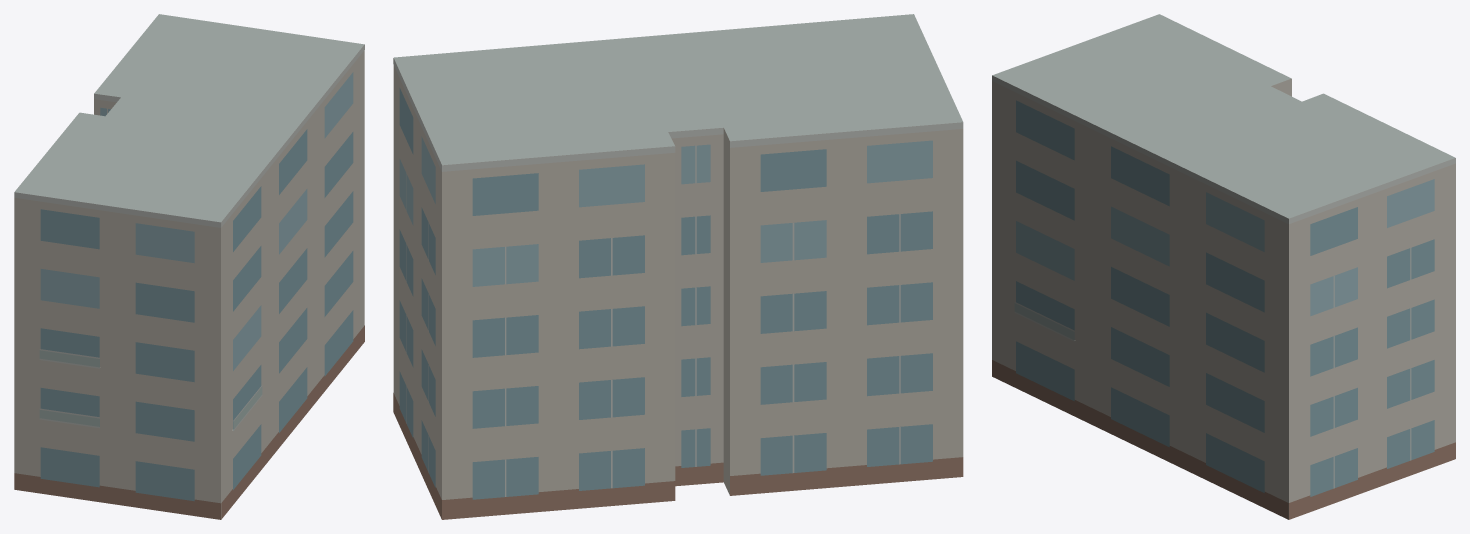
Rendered from survey-upis-32625898.glb.
3 views of the same model, side by side, from view 1: azimuth 30°, elevation 25°; view 2: azimuth 150°, elevation 25°; view 3: azimuth 270°, elevation 25° (orthographic). The views are drawn at different scales.
Visible parts, largest first — view 1: survey-upis-32625898.tmp; view 2: survey-upis-32625898.tmp; view 3: survey-upis-32625898.tmp.
Boxes of the visible parts, left/top/right/bottom form: survey-upis-32625898.tmp: left=14, top=14, right=364, bottom=519; survey-upis-32625898.tmp: left=393, top=14, right=963, bottom=519; survey-upis-32625898.tmp: left=992, top=14, right=1455, bottom=519.
Size of the model in its own units: 19.1 by 13.1 by 18.29.
